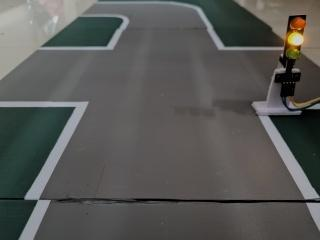yellow: (268, 5, 320, 69)
